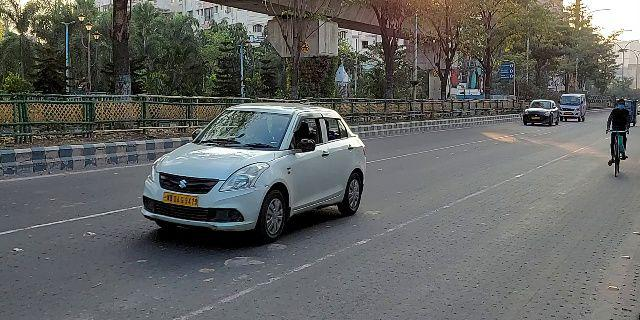Car: (135, 98, 372, 243), (519, 95, 560, 128)
Cycle: (605, 93, 627, 182)
Minitruck: (557, 90, 588, 124)
